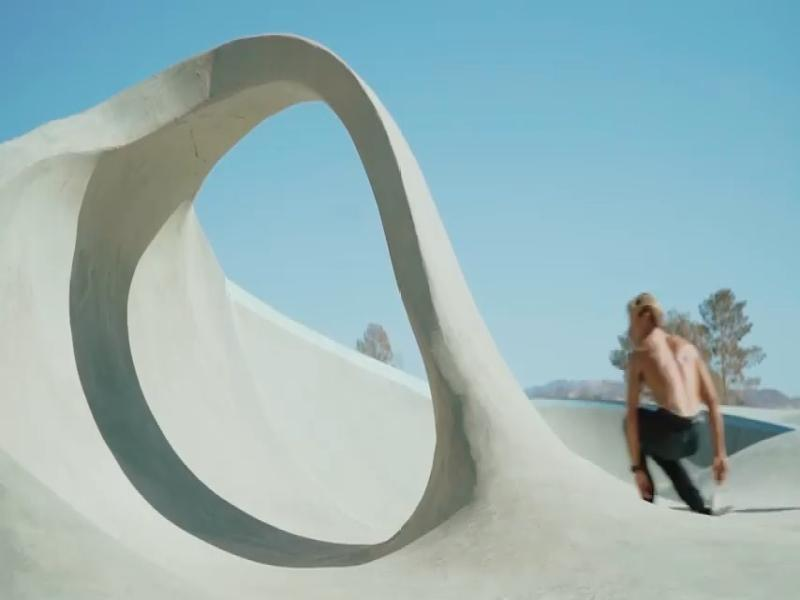person: (625, 294, 728, 514)
